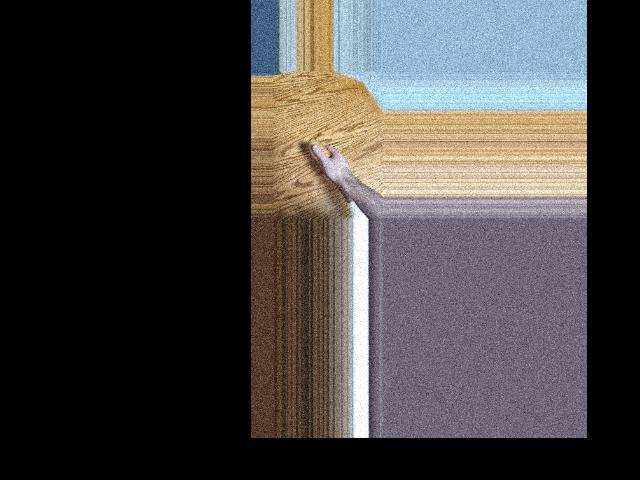sweet_potato: (306, 137, 351, 204)
